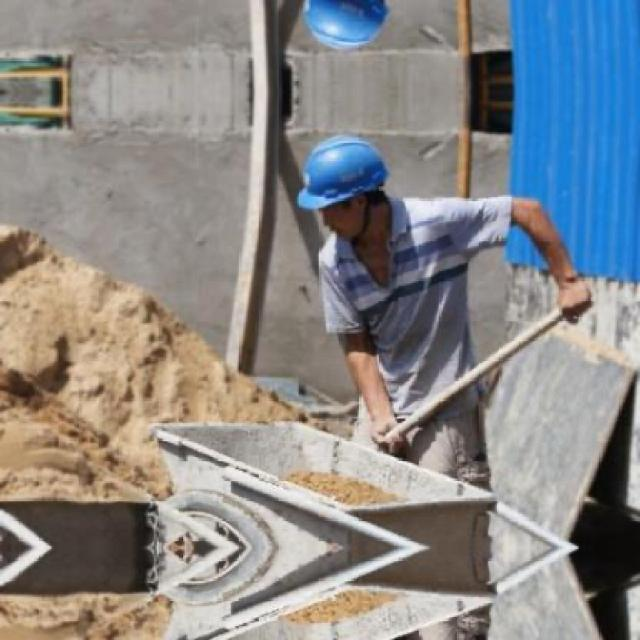helmet: (294, 131, 397, 243), (294, 0, 399, 52)
